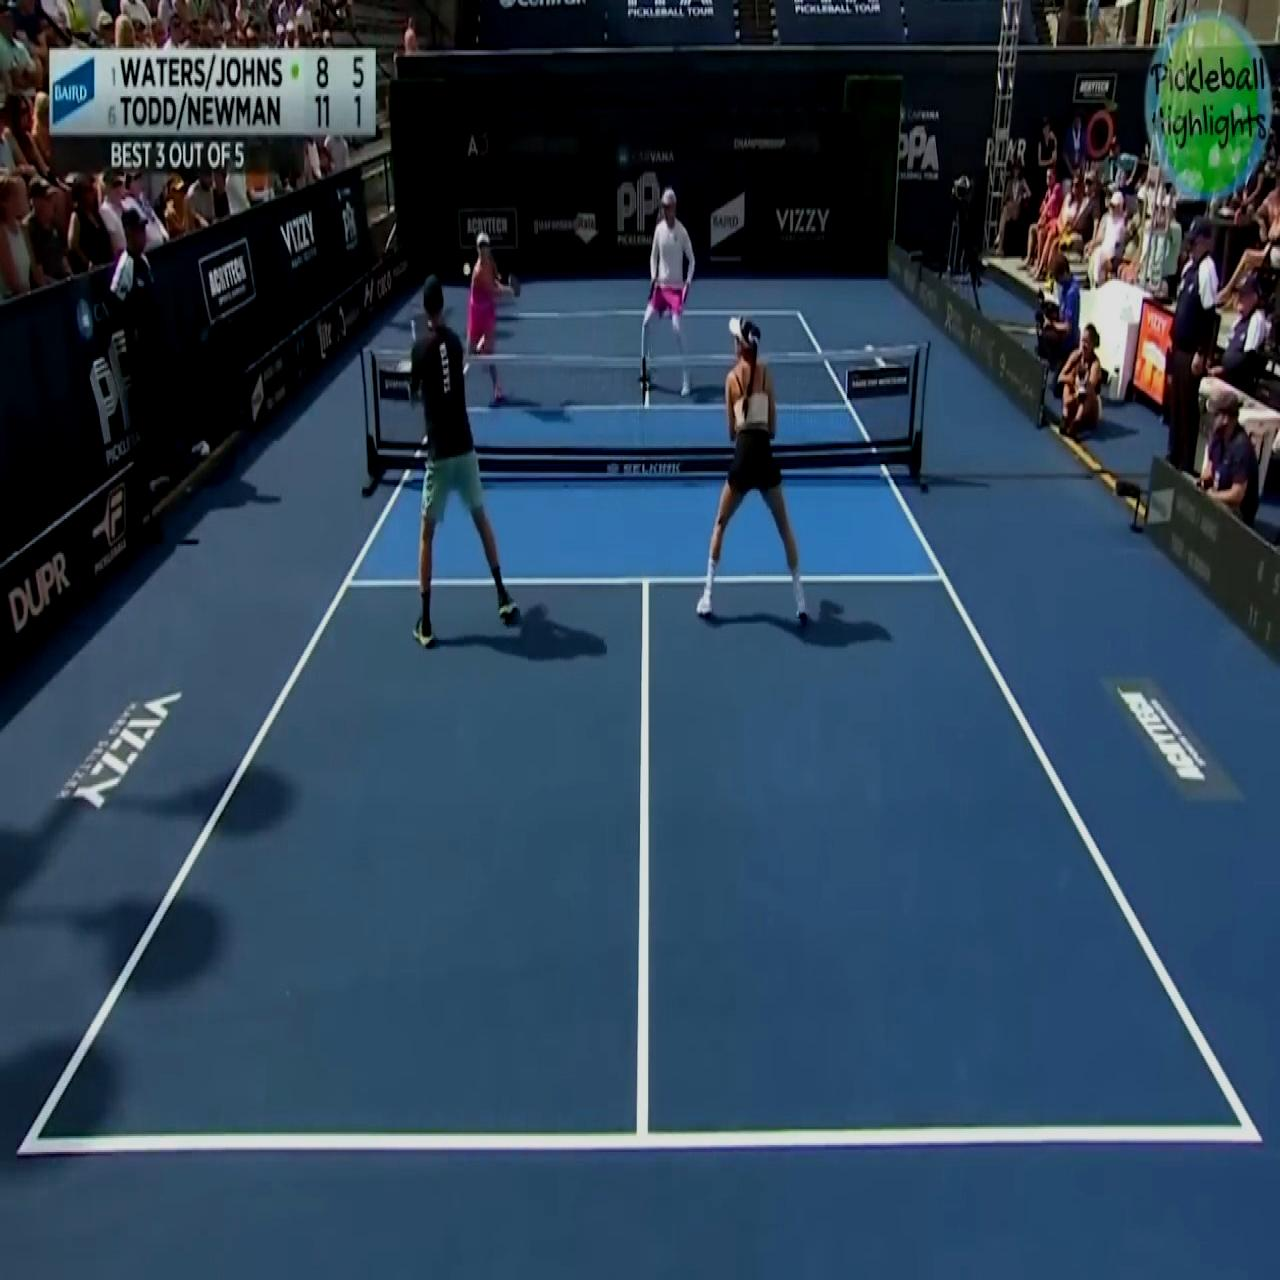Pickleball: (461, 257, 471, 281)
